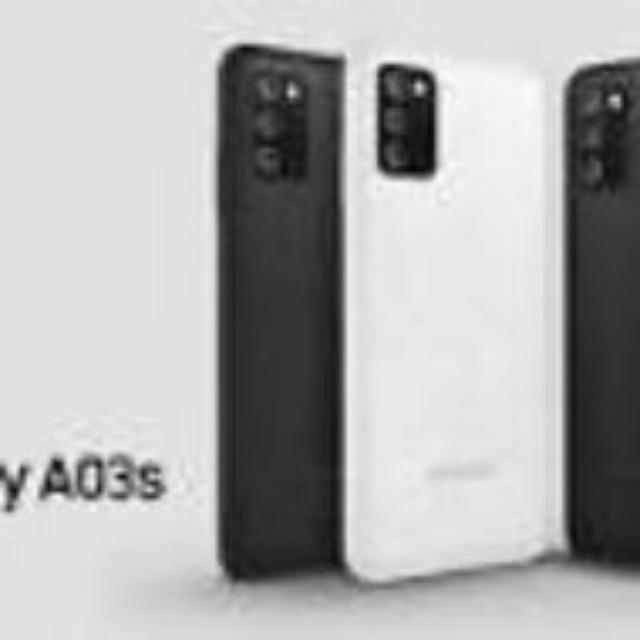fake: (345, 40, 564, 586), (212, 39, 341, 582), (560, 45, 640, 563)
